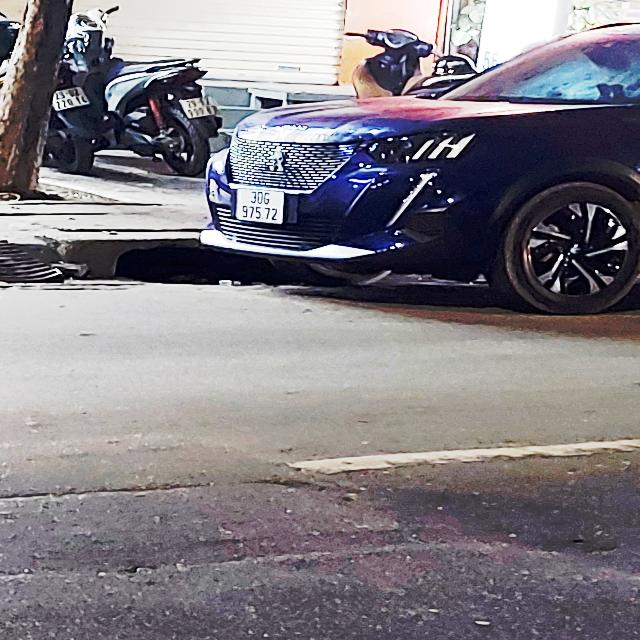license_plate: (232, 187, 289, 227)
